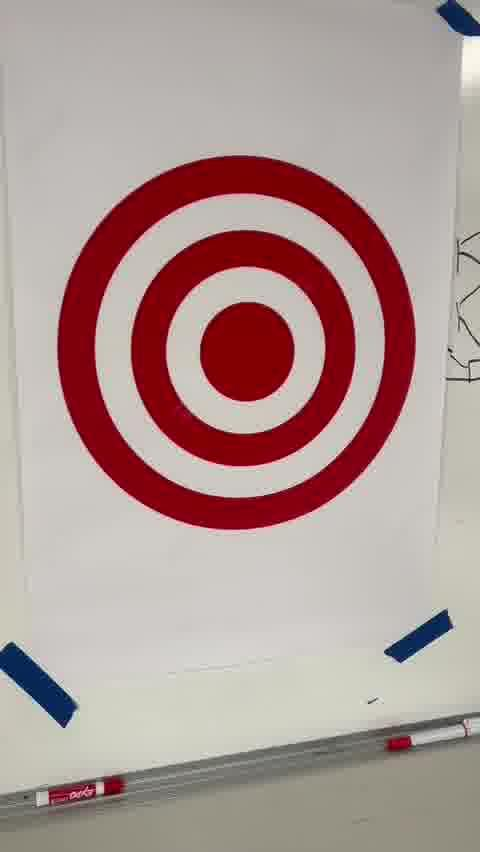target_red: (56, 153, 415, 531)
